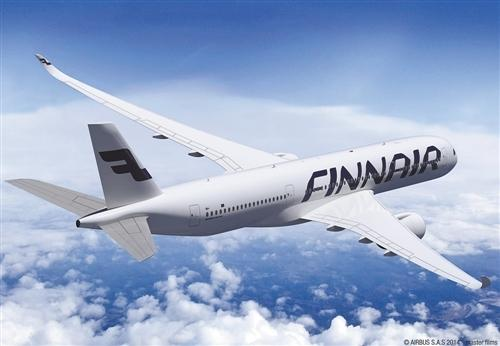airplane: (6, 51, 488, 294)
